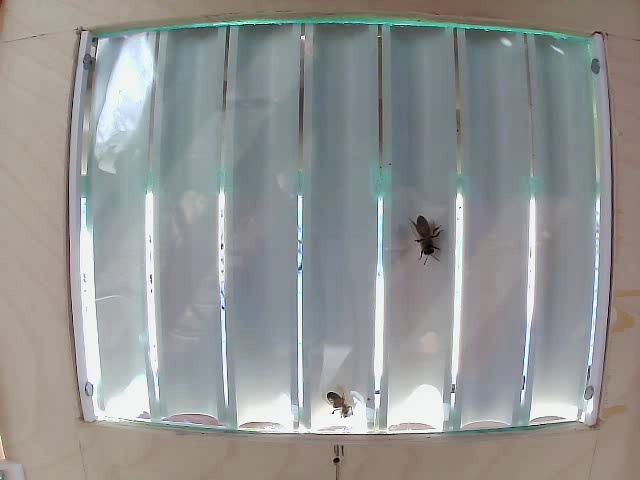bee: (403, 204, 453, 263), (322, 384, 358, 427)
